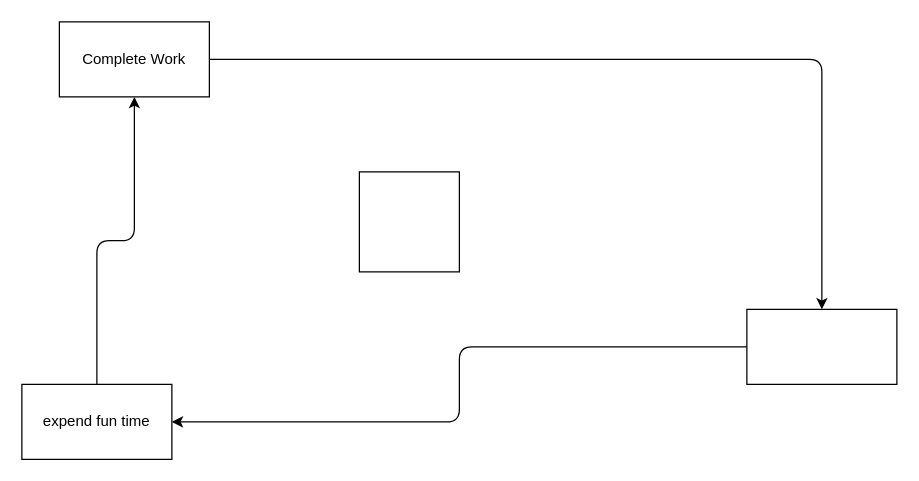
The diagram is 919 pixels wide and 481 high, and some of its shapes have lost their labels. The box of each missing label's shape, as (x1, y1, x2, y2) in pixels:
earn fun time: (746, 308, 897, 384)
somewhere to store variables: (358, 171, 459, 272)
